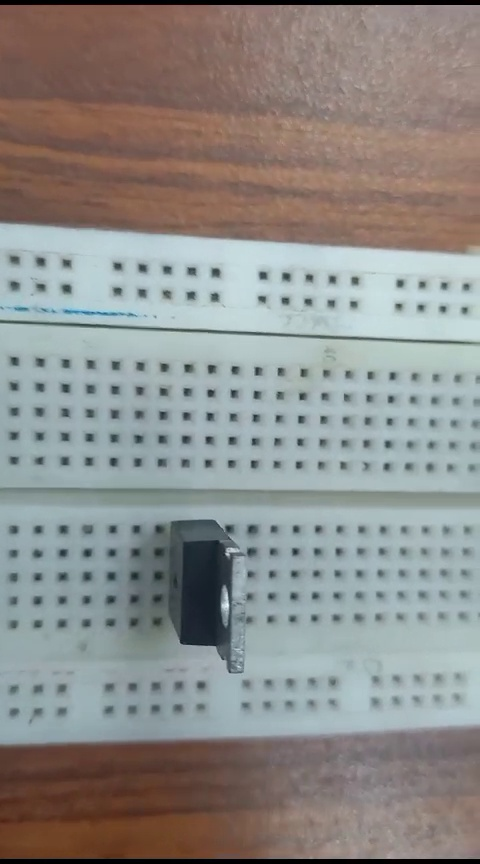voltage regulator: (138, 511, 265, 703)
